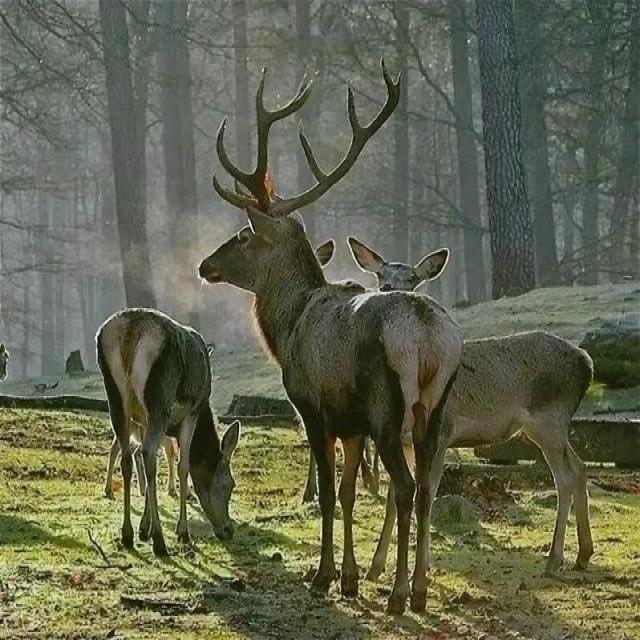deer: (153, 156, 560, 569), (330, 211, 640, 538), (90, 288, 334, 581)
